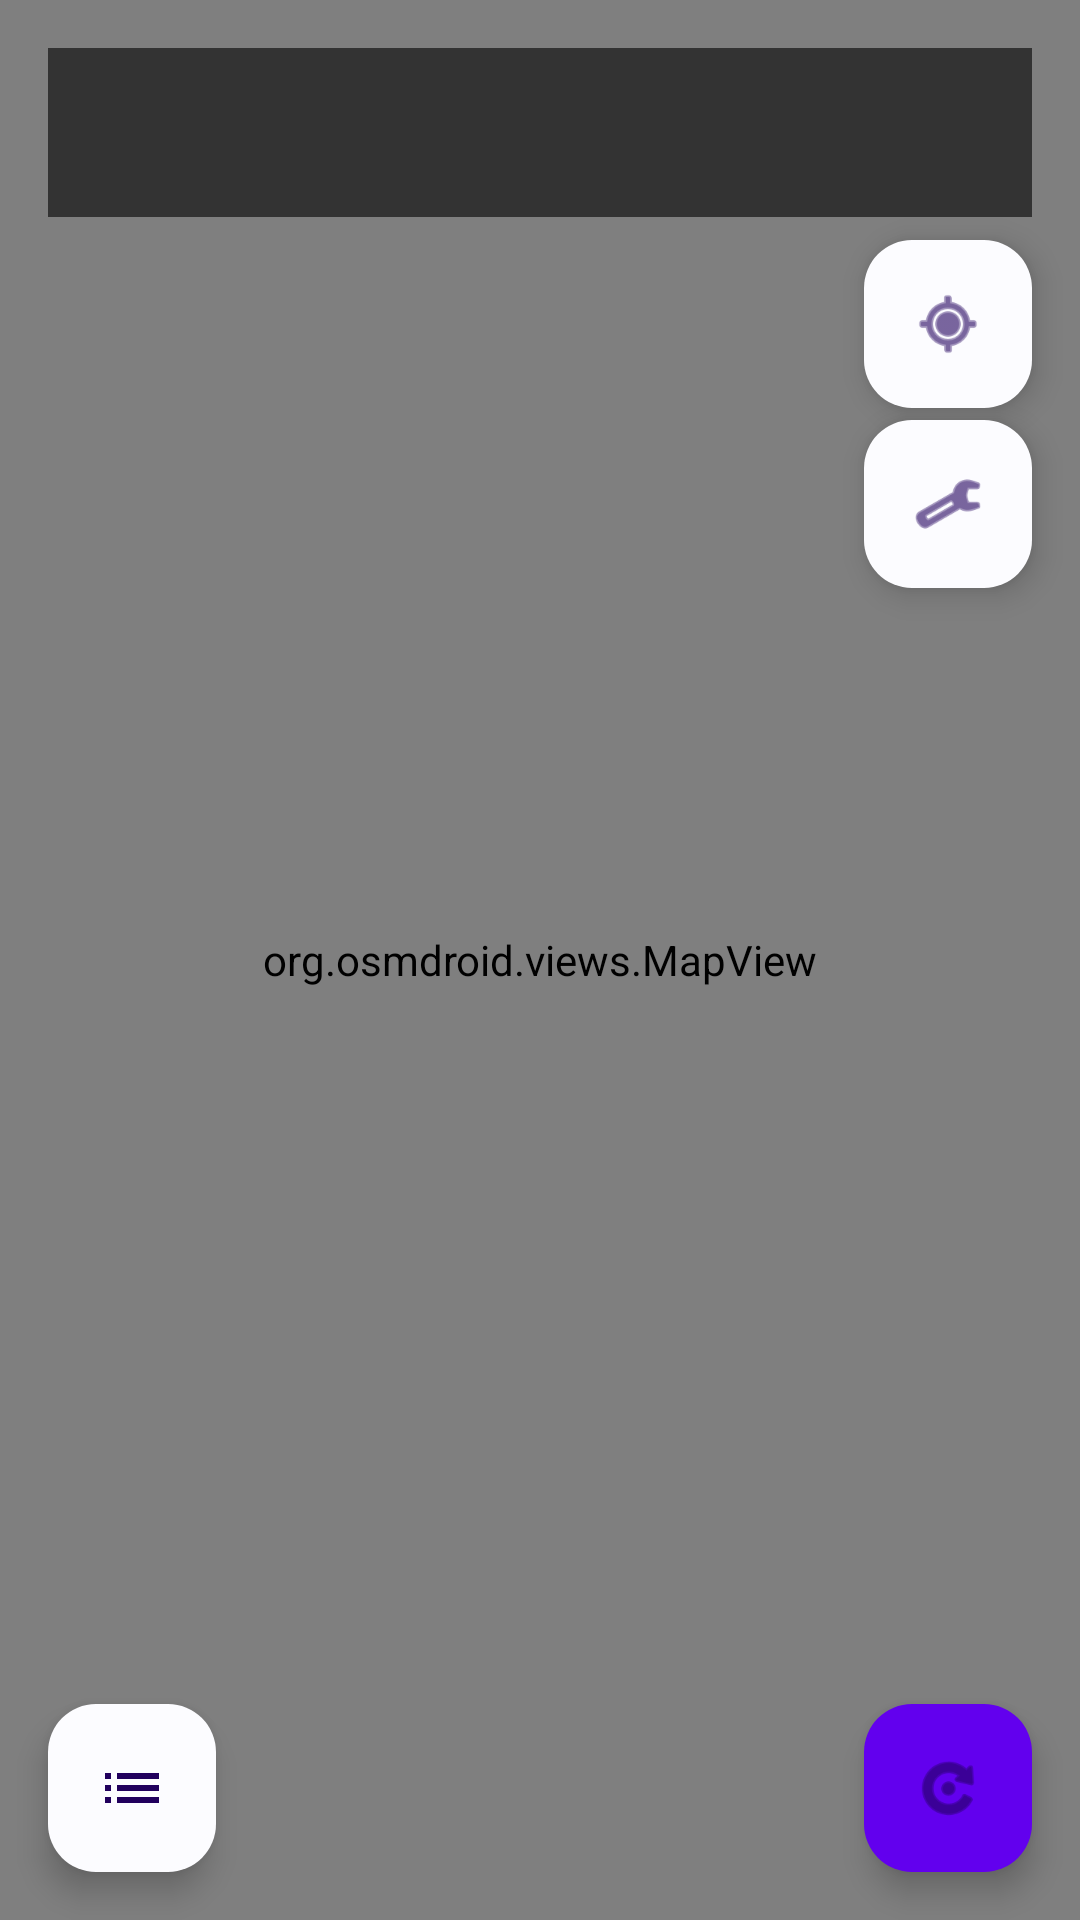

Screen size 1080×1920. Icon name, then its box in pixels as (x1, y1, x2, y2):
Hiển thị danh sách nhiệm vụ: (48, 1704, 216, 1872)
Thiết lập mô hình OSRM: (864, 420, 1032, 588)
Tải lại tuyến đường: (864, 1704, 1032, 1872)
Về vị trí hiện tại: (864, 240, 1032, 408)
